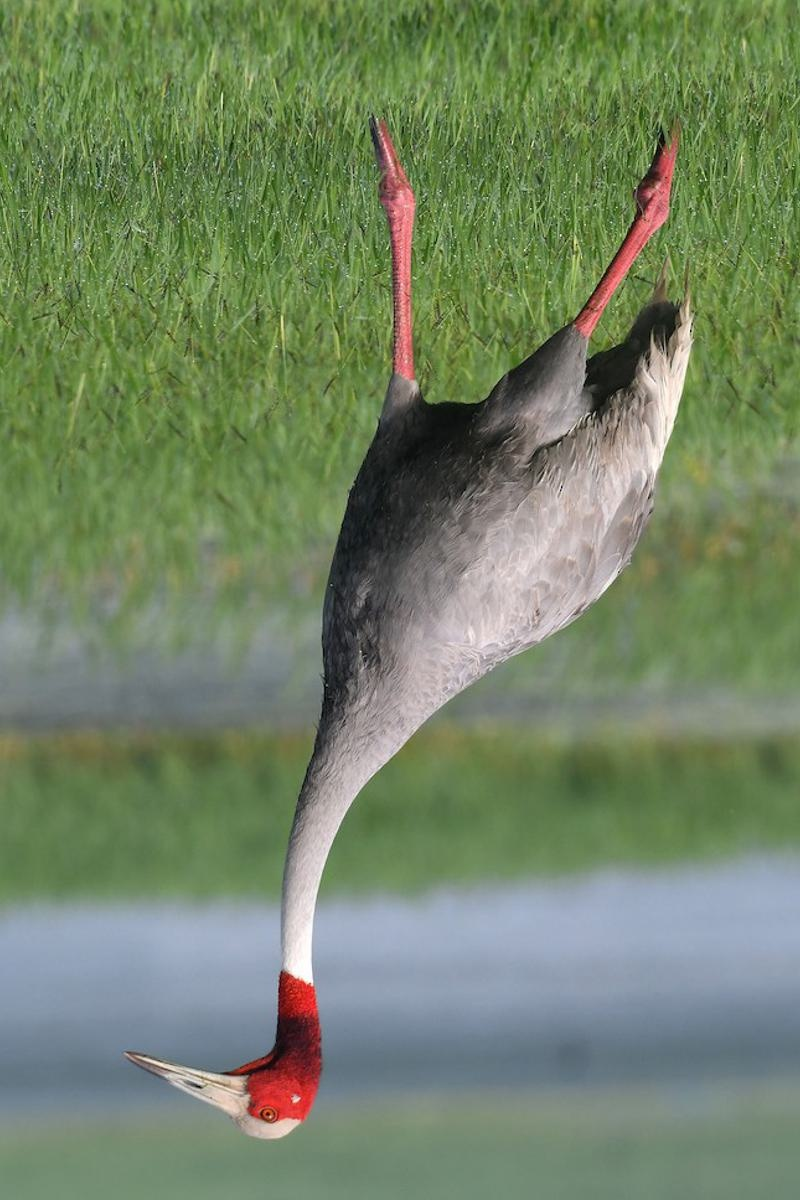crane: (106, 91, 703, 1159)
